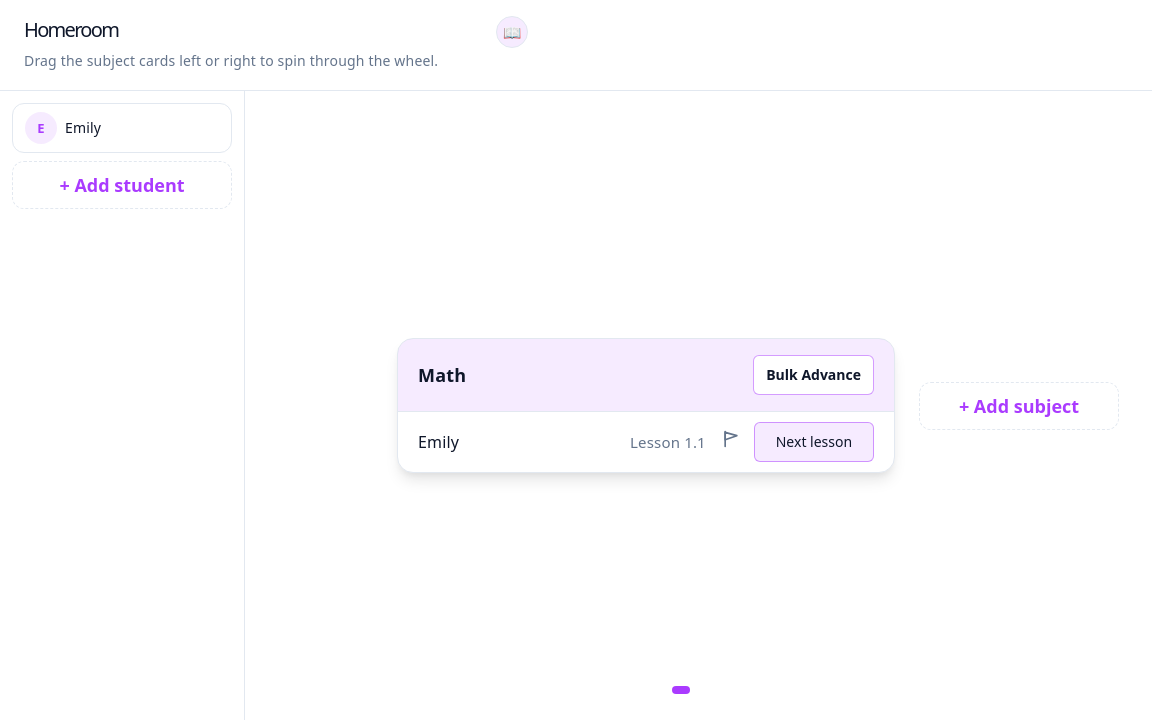
Test: ClassBoard › lists every lesson in the subject, including ones ahead of the student's current position, each checkable
The image size is (1152, 720).
Right-click the text "Emily" next to "Lesson 1.1" at (439, 442), box [418, 431, 459, 453]
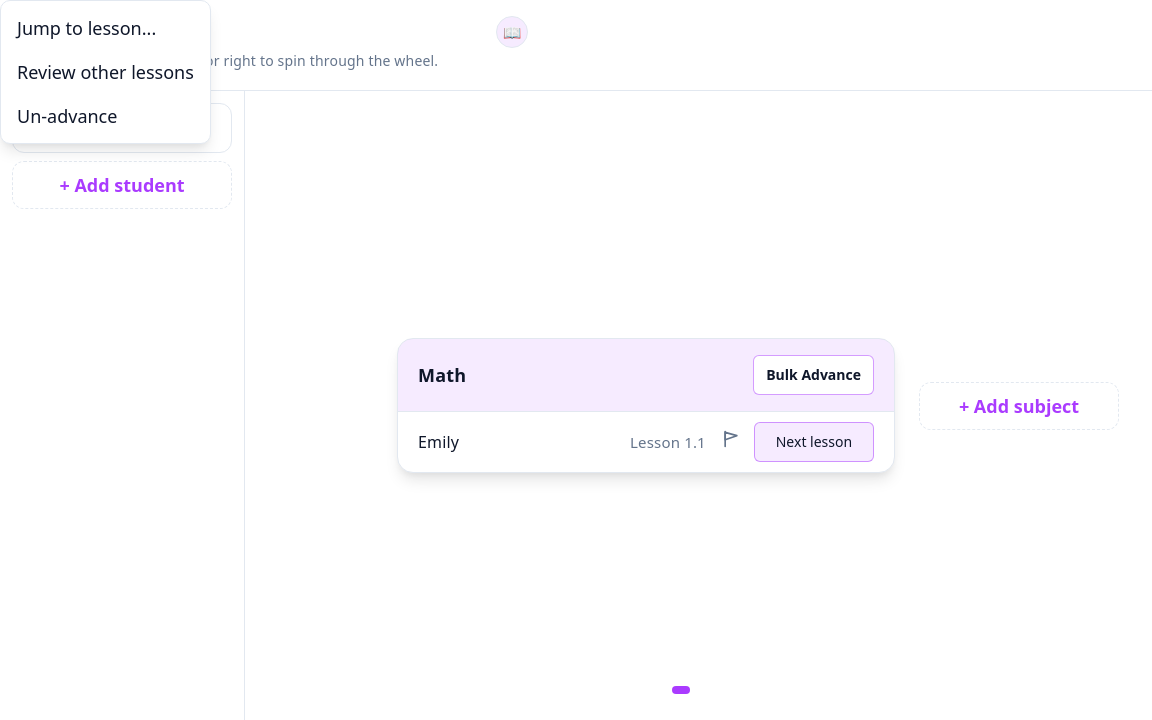
Click the menu item "Review other lessons" at (105, 72), box [7, 51, 204, 93]
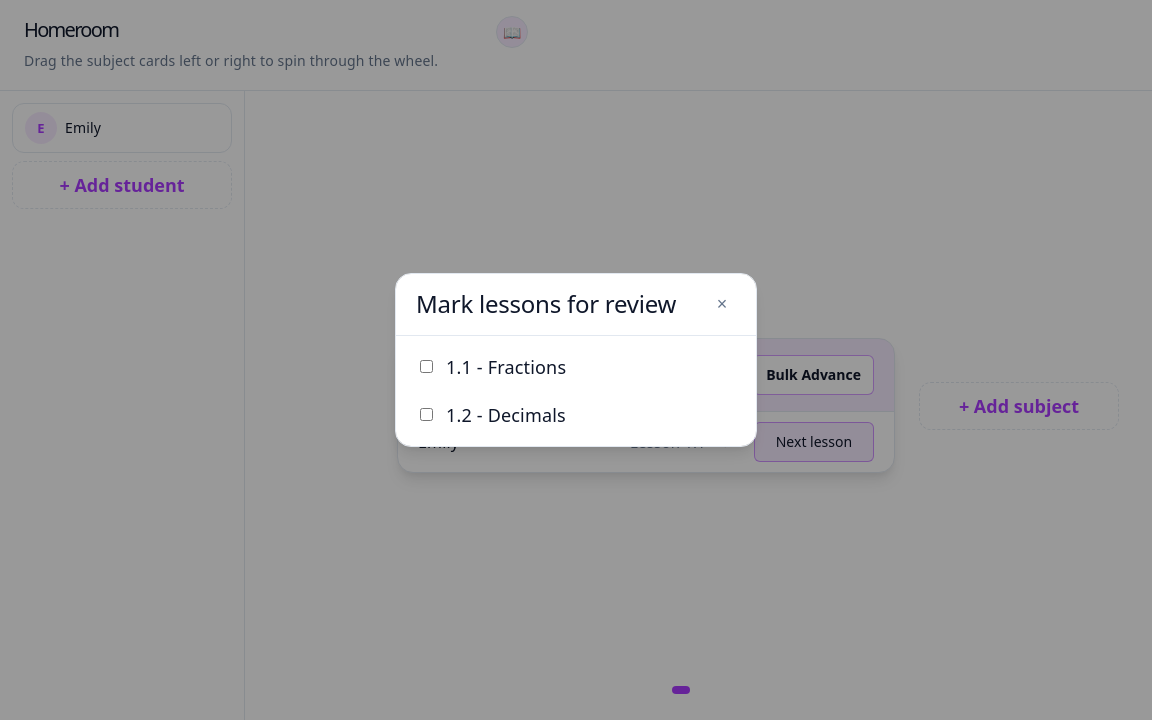
Check: the checkbox labelled "1.1 - Fractions" is shown, box [420, 360, 433, 373]
Check: the checkbox labelled "1.2 - Decimals" is enabled, box [420, 408, 433, 421]
